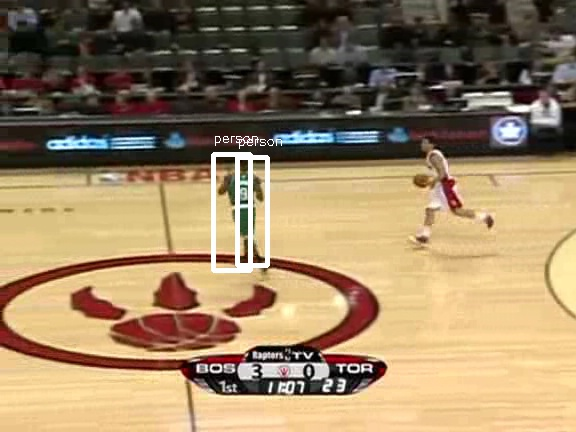person: (227, 163, 261, 244), (226, 163, 260, 244), (228, 163, 262, 244), (227, 162, 261, 243), (227, 164, 261, 245)
target_negative: (122, 354, 450, 418), (187, 3, 328, 46), (227, 267, 502, 285), (194, 277, 518, 282), (412, 327, 464, 349), (564, 207, 567, 387)
